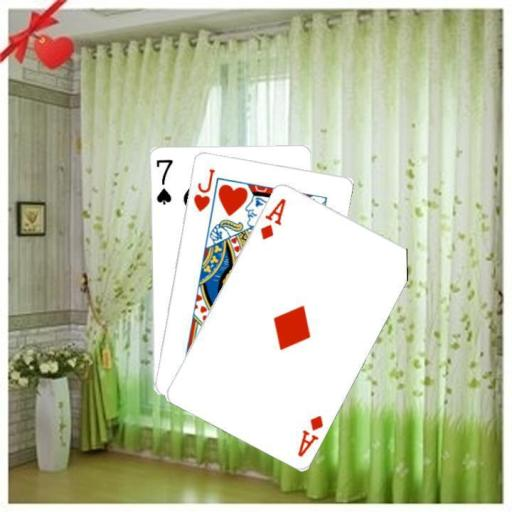card-corner: (294, 412, 325, 458), (257, 194, 287, 241), (190, 165, 216, 213), (152, 156, 174, 206)
